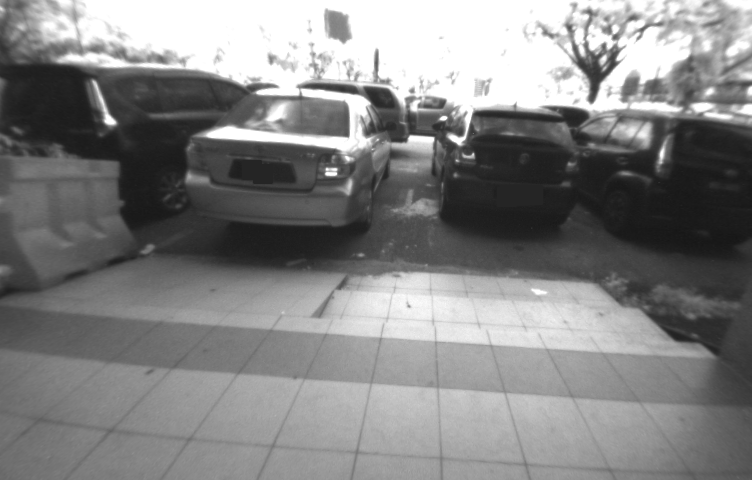down_steps: (312, 260, 723, 373)
mixed_gradient: (288, 264, 368, 342)
